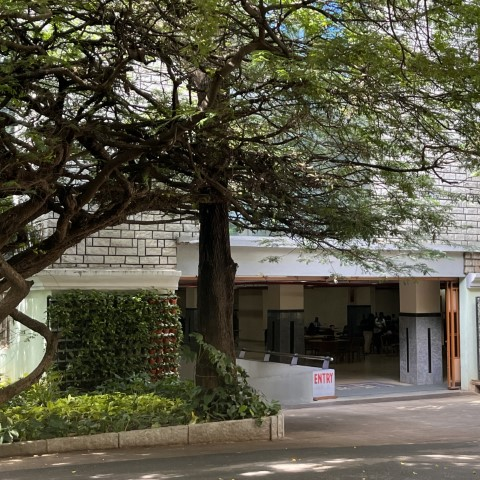Central Block: (83, 214, 480, 448)
